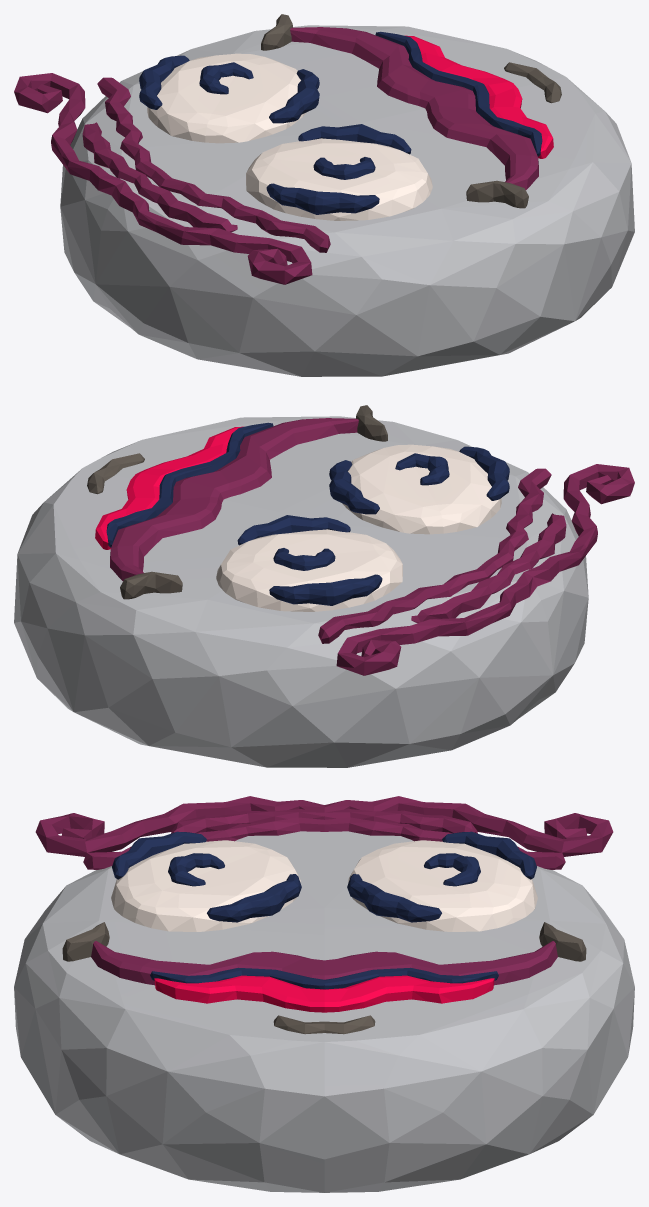
File: mr_NOT.fbx
3 views of the same model, one above another, from view 1: azimuth 30°, elevation 25°; view 2: azimuth 150°, elevation 25°; view 3: azimuth 270°, elevation 25° (orthographic). The views are drawn at different scales.
Parts seen in each view (by area): view 1: Face, Eyes, Upper Hairs, Upper Lip, Lower Hairs, Eyebrows, Middle Hairs, Lower Lip, Eye Bags, Between Lips, Cheeks, Pupil (+1 smaller); view 2: Face, Eyes, Upper Hairs, Upper Lip, Lower Hairs, Eyebrows, Middle Hairs, Lower Lip, Eye Bags, Between Lips, Cheeks, Pupil (+1 smaller); view 3: Face, Eyes, Upper Hairs, Upper Lip, Lower Lip, Lower Hairs, Eye Bags, Middle Hairs, Between Lips, Eyebrows, Pupil, Cheeks (+1 smaller).
Part boxes in pixels (x1,y1,x2,y2): Face: (60, 25, 634, 376); Eyes: (147, 53, 432, 220); Upper Hairs: (14, 73, 312, 284); Upper Lip: (290, 27, 538, 189); Lower Hairs: (97, 77, 330, 252); Eyebrows: (139, 55, 379, 214); Middle Hairs: (82, 122, 237, 232); Lower Lip: (405, 35, 553, 158); Eye Bags: (269, 69, 411, 154); Between Lips: (375, 31, 542, 156); Cheeks: (261, 14, 528, 208); Pupil: (199, 62, 375, 179); Face: (14, 416, 588, 767); Eyes: (216, 444, 501, 611); Upper Hairs: (336, 464, 634, 675); Upper Lip: (110, 418, 358, 580); Lower Hairs: (318, 468, 551, 643); Eyebrows: (269, 446, 509, 605); Middle Hairs: (411, 513, 566, 623); Lower Lip: (95, 426, 243, 549); Eye Bags: (237, 460, 379, 545); Between Lips: (106, 422, 273, 547); Cheeks: (120, 405, 387, 599); Pupil: (273, 453, 449, 570); Face: (14, 831, 634, 1192); Eyes: (111, 840, 537, 931); Upper Hairs: (35, 796, 613, 856); Upper Lip: (91, 941, 557, 985); Lower Lip: (154, 975, 494, 1012); Lower Hairs: (83, 817, 565, 869); Eye Bags: (207, 874, 441, 922); Middle Hairs: (171, 809, 477, 833); Between Lips: (150, 967, 498, 989); Eyebrows: (112, 831, 536, 879); Pupil: (168, 853, 480, 886); Cheeks: (62, 922, 586, 961).
Size of the model in its own units: 102 by 35.03 by 102.
